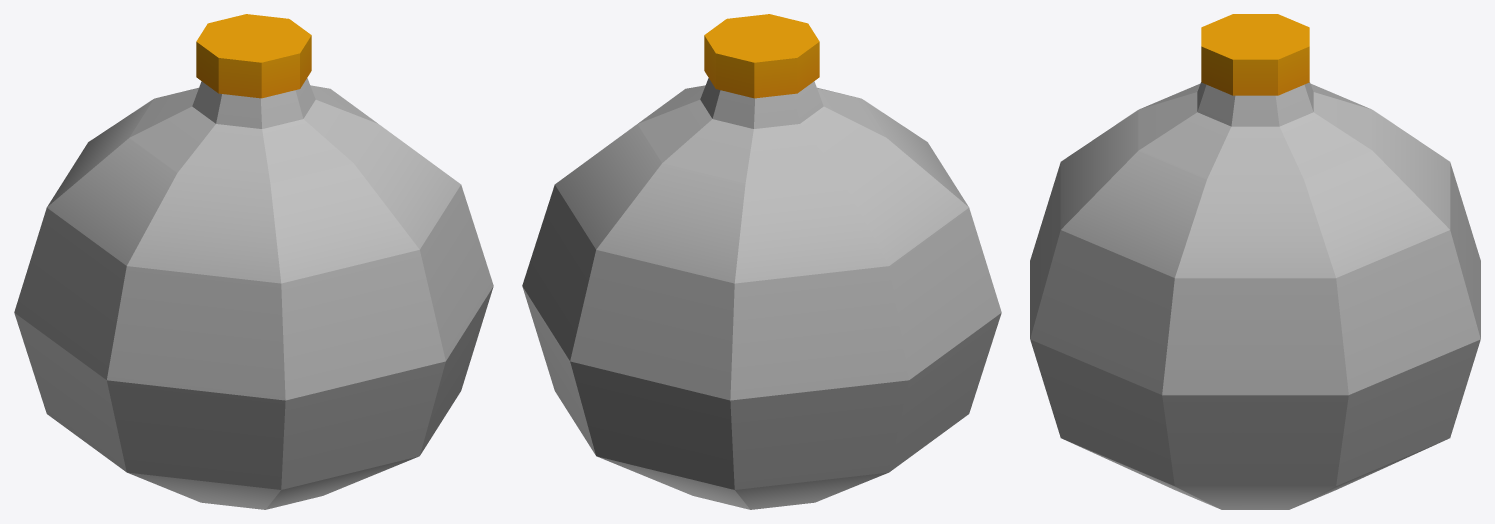
The model's file is ball gray.fbx.
3 renders of one model, left to right at view 1: azimuth 30°, elevation 25°; view 2: azimuth 150°, elevation 25°; view 3: azimuth 270°, elevation 25°, orthographic.
Parts seen in each view (by area): view 1: ball gray; view 2: ball gray; view 3: ball gray.
Part boxes in pixels (box(x1,y1,x2,y2)): ball gray: box(14, 14, 493, 509); ball gray: box(522, 14, 1001, 509); ball gray: box(1030, 14, 1480, 509).
Size of the model in its own units: 26.53 by 29.44 by 26.53.
